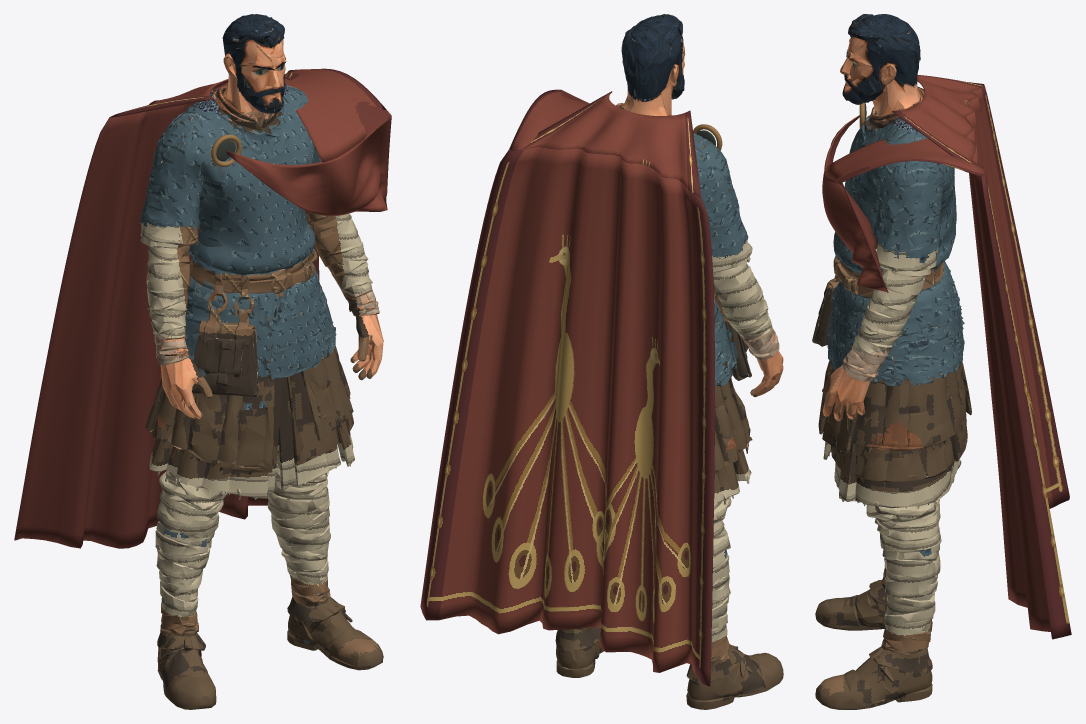
The model's file is mercenary-embroidered.glb.
3 renders of one model, left to right at view 1: azimuth 30°, elevation 25°; view 2: azimuth 150°, elevation 25°; view 3: azimuth 270°, elevation 25°, orthographic.
Parts seen in each view (by area): view 1: mercenary-embroidered runtime mesh; view 2: mercenary-embroidered runtime mesh; view 3: mercenary-embroidered runtime mesh.
Boxes of the visible parts, box(x1,y1,x2,y2) form: mercenary-embroidered runtime mesh: box(14, 14, 391, 709); mercenary-embroidered runtime mesh: box(420, 14, 783, 709); mercenary-embroidered runtime mesh: box(812, 14, 1071, 709).
Bounding box in the file's own units: 0.9693 × 2.03 × 0.7416.
Materials: 8 (2 with a texture image).
